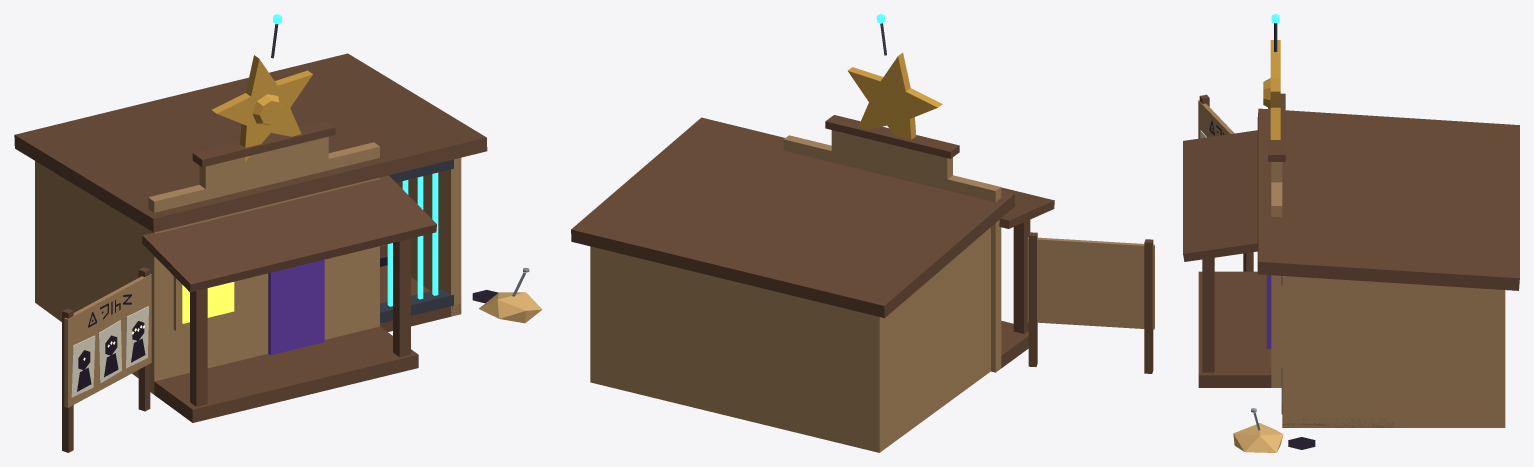
The model's file is Bldg_Sheriff.fbx.
3 views of the same model, side by side, from view 1: azimuth 30°, elevation 25°; view 2: azimuth 150°, elevation 25°; view 3: azimuth 270°, elevation 25° (orthographic). The views are drawn at different scales.
Parts seen in each view (by area): view 1: Bldg_Sheriff_Body, Bldg_Sheriff_Door, Bldg_Sheriff_Star, Bldg_Sheriff_Posters, Bldg_Sheriff_Laser_Bars; view 2: Bldg_Sheriff_Body, Bldg_Sheriff_Star; view 3: Bldg_Sheriff_Body, Bldg_Sheriff_Star, Bldg_Sheriff_Door.
Boxes of the visible parts, box(x1,y1,x2,y2) form: Bldg_Sheriff_Body: box(14, 53, 542, 452); Bldg_Sheriff_Door: box(268, 259, 324, 355); Bldg_Sheriff_Star: box(212, 14, 312, 162); Bldg_Sheriff_Posters: box(71, 294, 148, 397); Bldg_Sheriff_Laser_Bars: box(387, 172, 438, 306); Bldg_Sheriff_Body: box(571, 115, 1154, 452); Bldg_Sheriff_Star: box(847, 14, 942, 139); Bldg_Sheriff_Body: box(1183, 93, 1519, 452); Bldg_Sheriff_Star: box(1263, 14, 1280, 139); Bldg_Sheriff_Door: box(1266, 275, 1271, 348).
Bounding box in the file's own units: 9.8 × 6.49 × 6.04.
